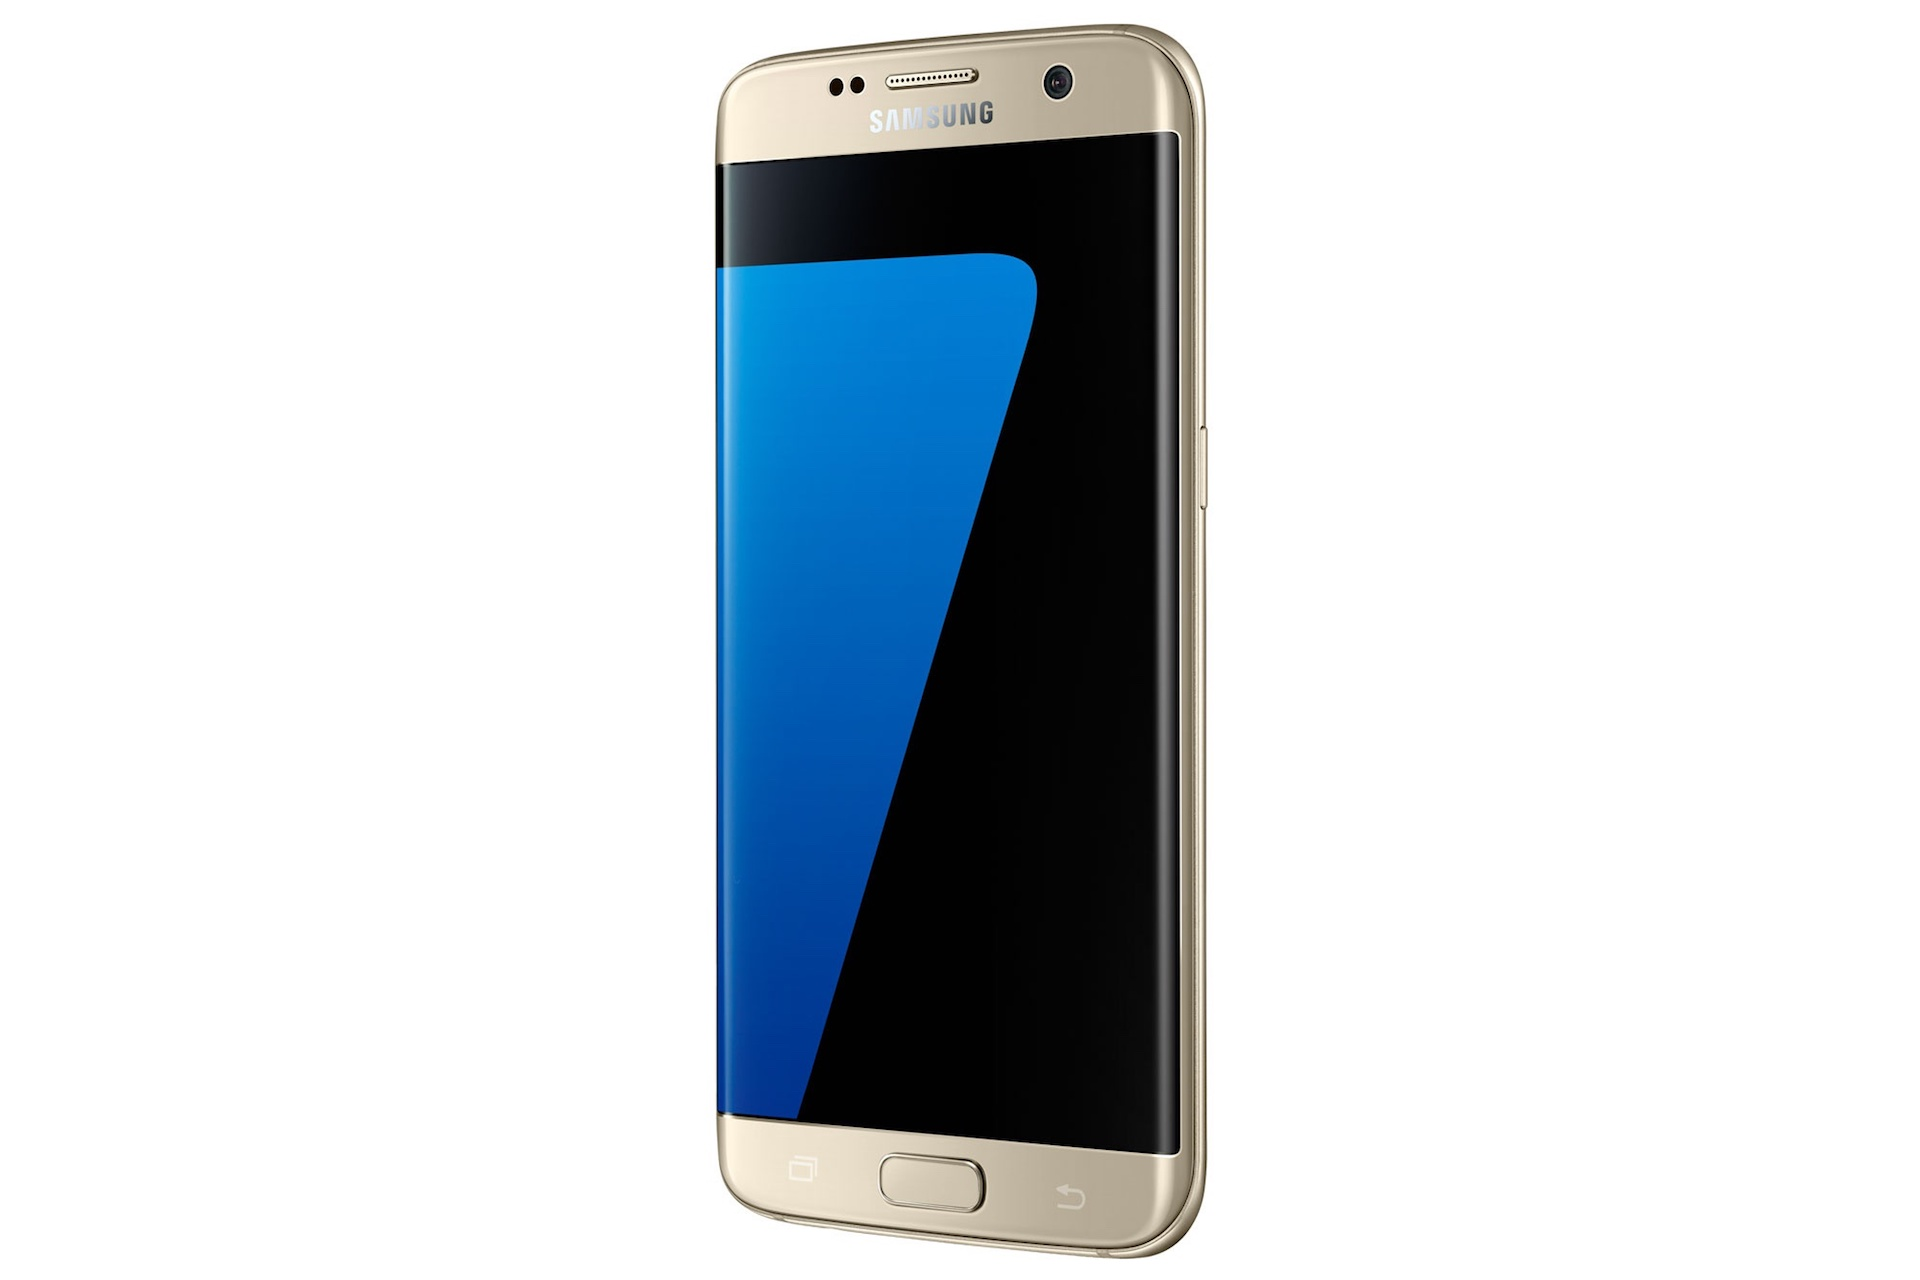smartphone: (711, 24, 1214, 1261)
